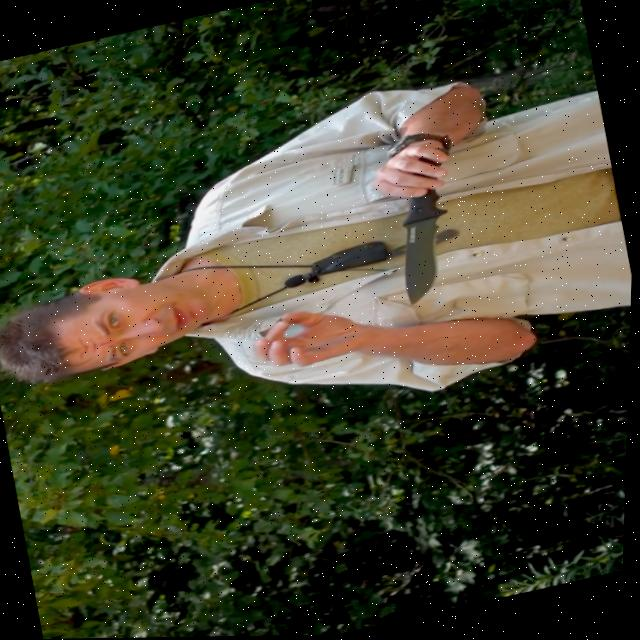knife: (387, 186, 468, 307)
